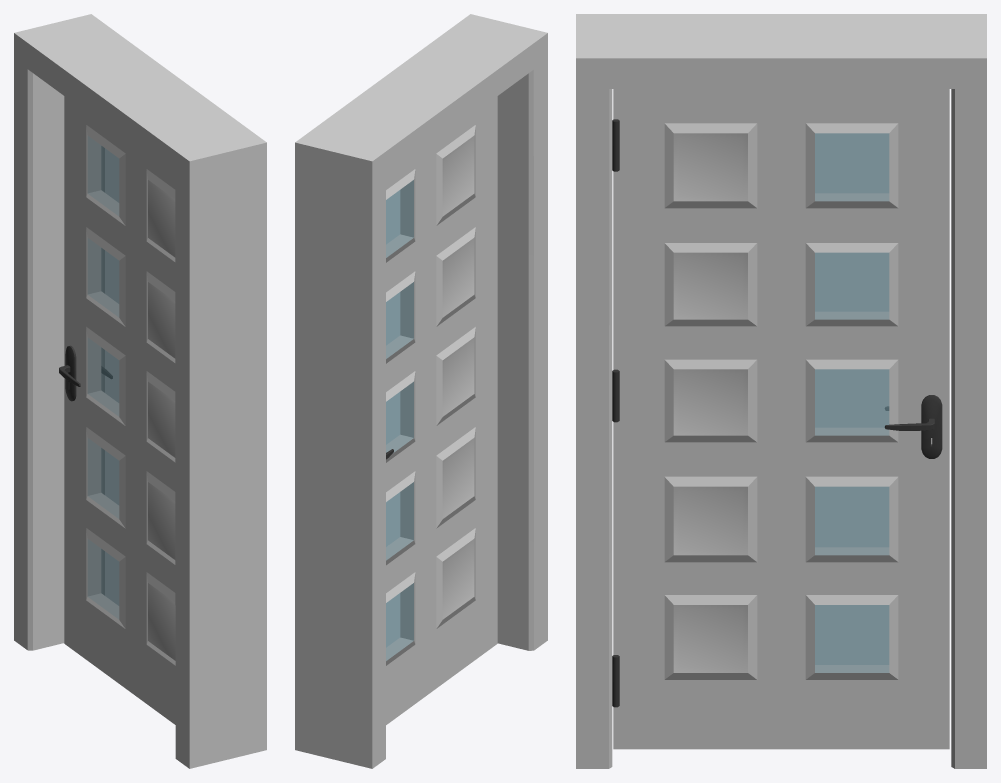
The model's file is Door01_open.FBX.
3 views of the same model, side by side, from view 1: azimuth 30°, elevation 25°; view 2: azimuth 150°, elevation 25°; view 3: azimuth 270°, elevation 25° (orthographic). The views are drawn at different scales.
Parts seen in each view (by area): view 1: Door01_open; view 2: Door01_open; view 3: Door01_open.
Part boxes in pixels (x1=…): Door01_open: x1=14, y1=14, x2=266, y2=768; Door01_open: x1=295, y1=14, x2=547, y2=768; Door01_open: x1=576, y1=14, x2=986, y2=768.
Bounding box in the file's own units: 28 × 110 × 210.
